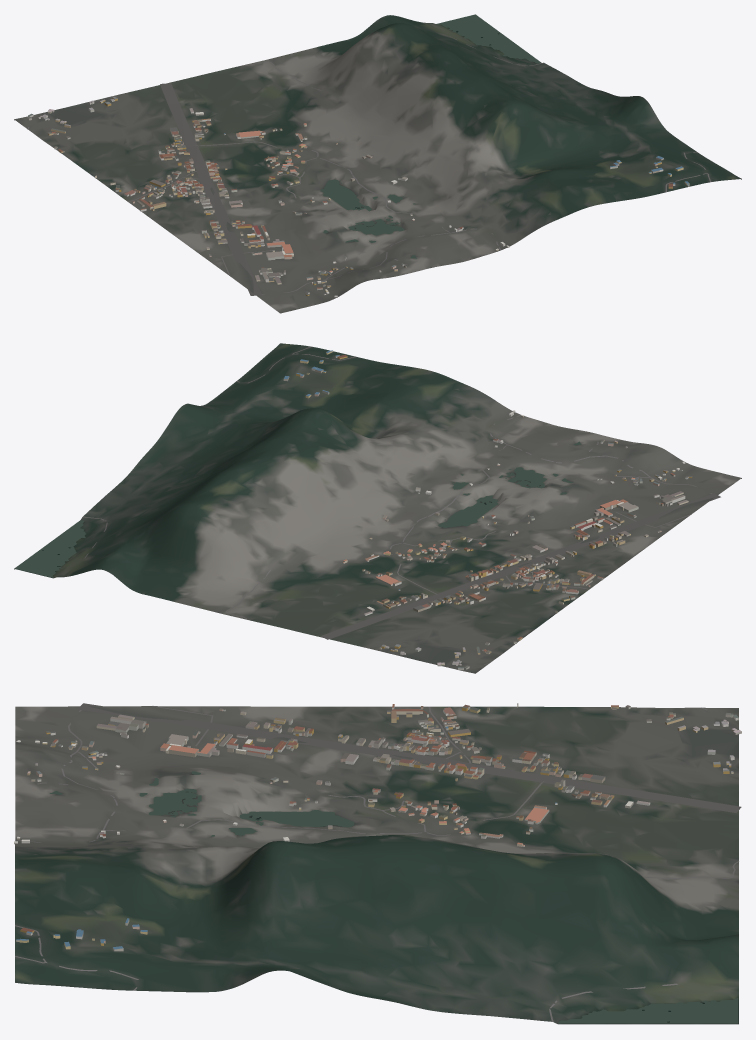
3 views of the same model, one above another, from view 1: azimuth 30°, elevation 25°; view 2: azimuth 150°, elevation 25°; view 3: azimuth 270°, elevation 25° (orthographic). The views are drawn at different scales.
Parts seen in each view (by area): view 1: ground, buildings, roads, water; view 2: ground, buildings, roads, water; view 3: ground, buildings, roads, water.
Boxes of the visible parts, x1,y1,x2,y2 form: ground: [14, 15, 741, 313]; buildings: [27, 96, 689, 297]; roads: [27, 36, 710, 295]; water: [320, 14, 541, 258]; ground: [14, 343, 741, 673]; buildings: [283, 350, 692, 670]; roads: [82, 346, 720, 664]; water: [15, 441, 581, 577]; ground: [15, 706, 738, 1024]; buildings: [14, 703, 741, 951]; roads: [15, 703, 741, 1021]; water: [49, 771, 738, 1023].
Bounding box in the file's own units: 1417 × 200 × 1410.
